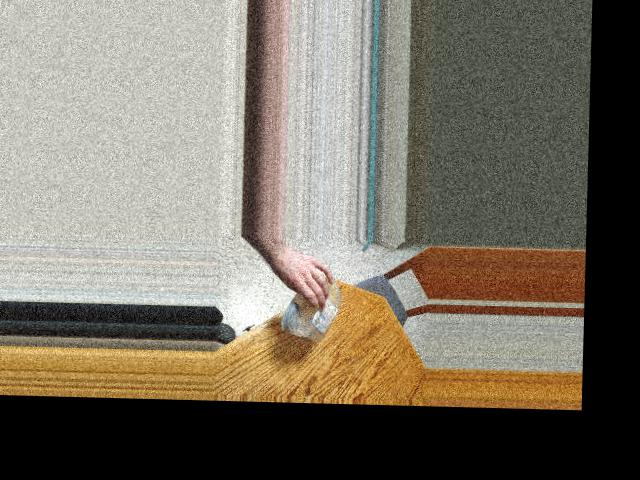cheese: (297, 278, 339, 336)
